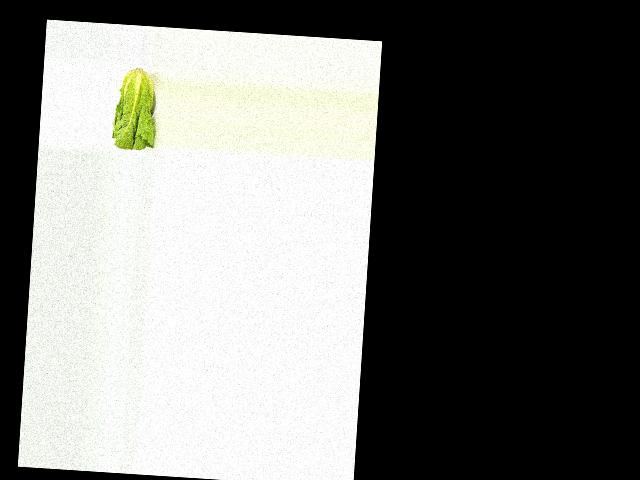lettuce: (109, 65, 160, 151)
